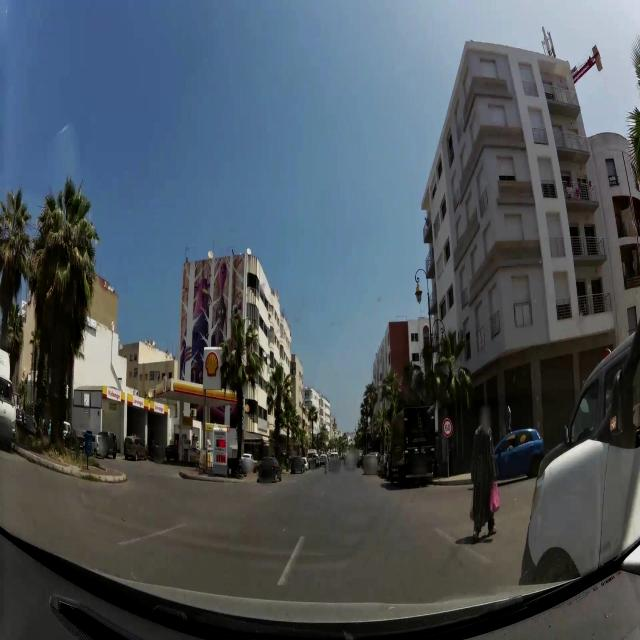car: (518, 300, 640, 588), (492, 426, 544, 481), (164, 439, 199, 464), (123, 434, 149, 461), (257, 456, 281, 484), (95, 429, 118, 458), (240, 453, 257, 474), (83, 431, 97, 456), (290, 455, 305, 474), (307, 449, 319, 468), (318, 452, 326, 466)
